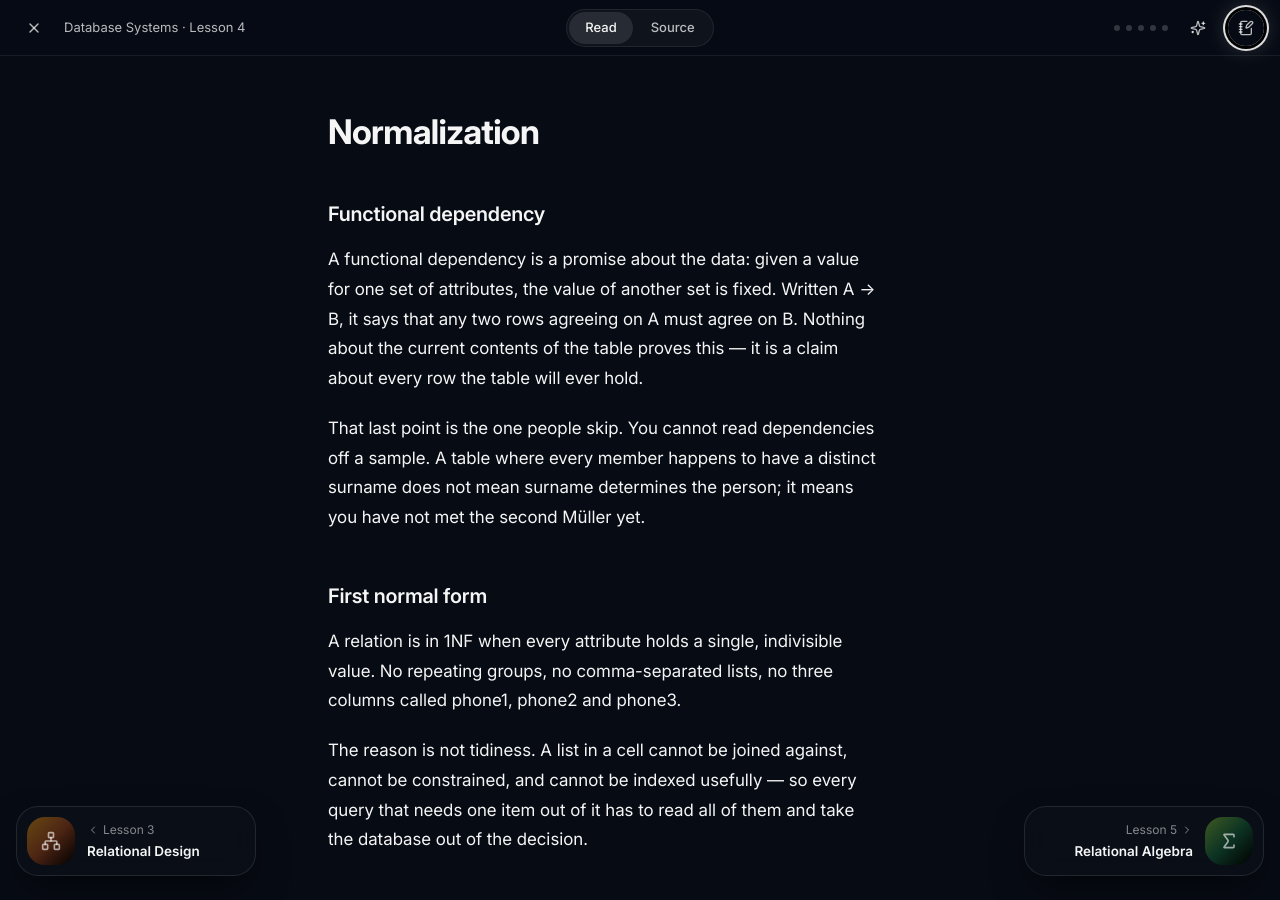
Test: notes are written from the rail › lists the Lesson’s existing notes
Expected: the header is shown, [0,0,1279,56]
Click the button named "Notes". click: click(1246, 28)
box: [1228,10,1264,46]
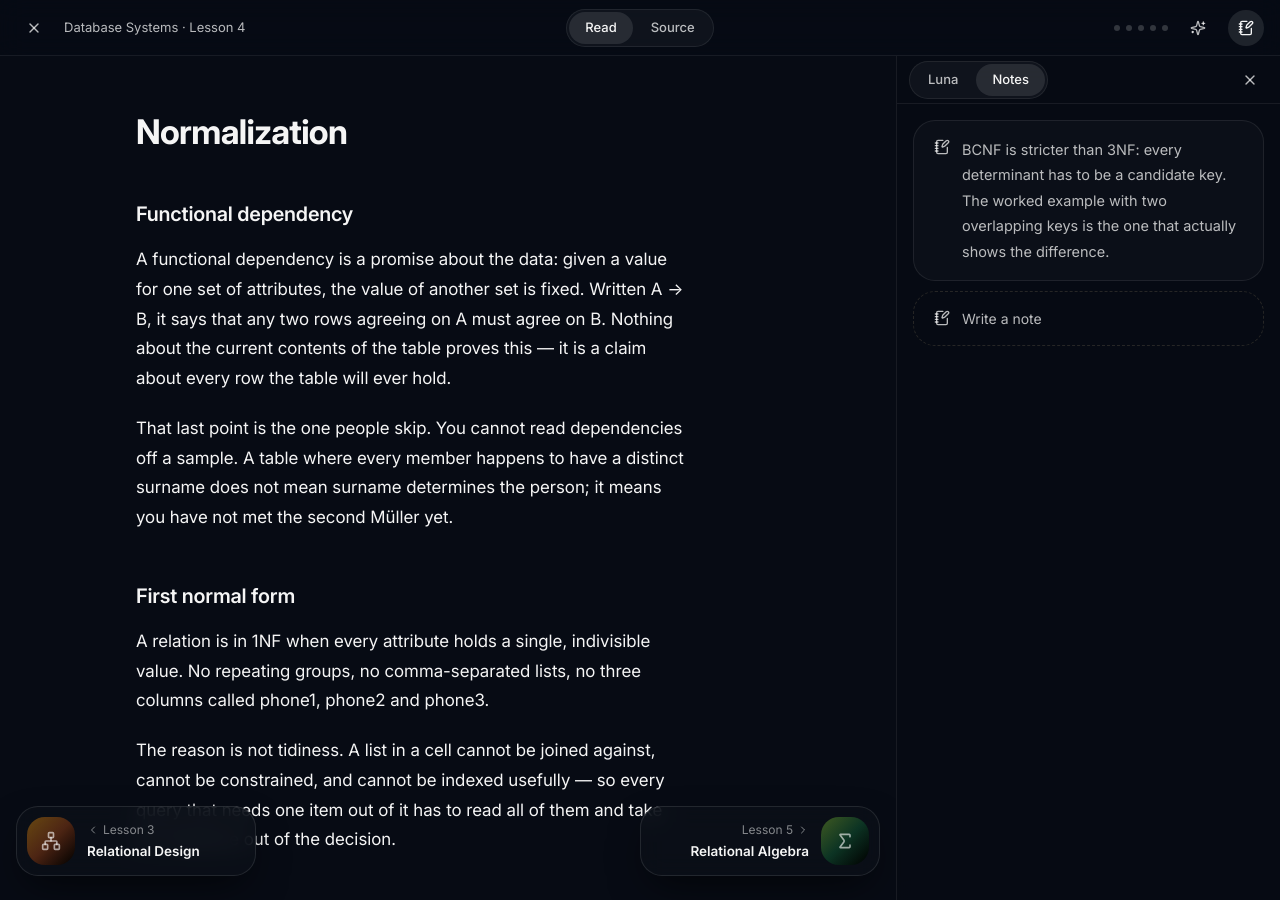
Now the text "BCNF is stricter than 3NF: every determinant has to be a candidate key. The worked example with two overlapping keys is " is shown, box [962,141,1240,260]
